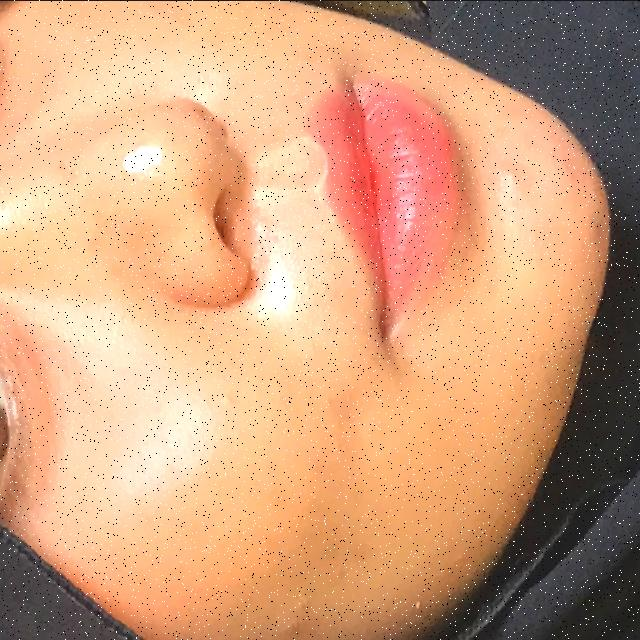mendengar: (0, 225, 640, 640)
